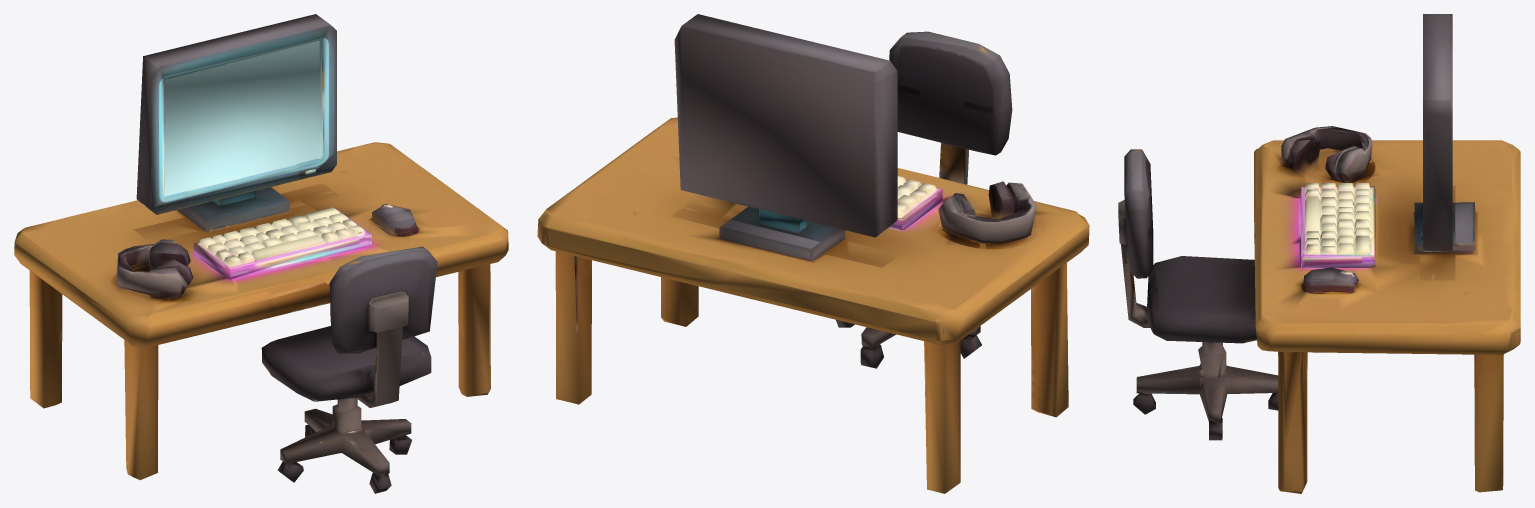
The model's file is game.glb.
3 views of the same model, side by side, from view 1: azimuth 30°, elevation 25°; view 2: azimuth 150°, elevation 25°; view 3: azimuth 270°, elevation 25° (orthographic). The views are drawn at different scales.
Visible parts, largest first — view 1: node_0; view 2: node_0; view 3: node_0.
Boxes of the visible parts, box(x1,y1,x2,y2) form: node_0: box(14, 14, 508, 493); node_0: box(537, 14, 1089, 493); node_0: box(1118, 14, 1520, 493).
Size of the model in its own units: 0.8108 by 0.7048 by 0.7241.
1 material, 1 textured.
